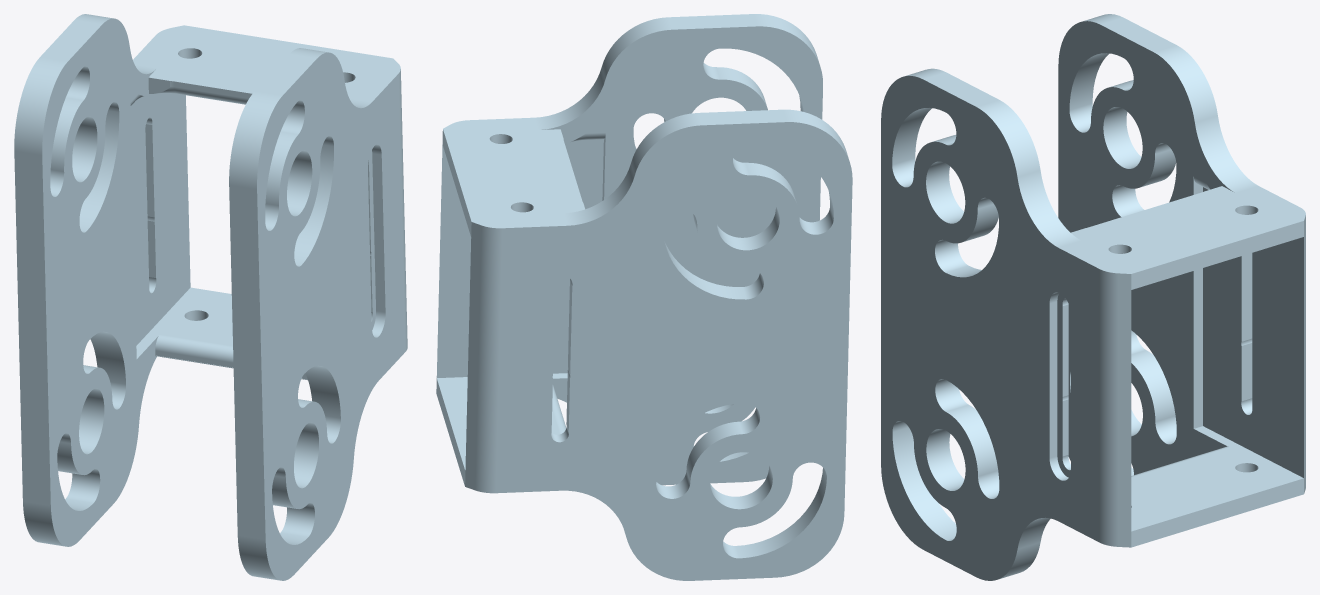
The picture shows the model from 3 angles, left to right: view 1: azimuth 30°, elevation 25°; view 2: azimuth 150°, elevation 25°; view 3: azimuth 270°, elevation 25°; orthographic projection. The views are drawn at different scales.
Visible parts, largest first — view 1: mesh5071, mesh5162, mesh5152, mesh5115, mesh5073, mesh5138, mesh5124, mesh5116, mesh5079, mesh5172, mesh5091, mesh5101 (+21 smaller); view 2: mesh5161, mesh5129, mesh5138, mesh5142, mesh5107, mesh5106, mesh5124, mesh5164, mesh5117, mesh5072, mesh5119, mesh5118 (+10 smaller); view 3: mesh5071, mesh5162, mesh5152, mesh5138, mesh5124, mesh5102, mesh5103, mesh5104, mesh5105, mesh5083, mesh5075, mesh5118 (+25 smaller).
Part boxes in pixels (x1=…): mesh5071: x1=257, y1=52, x2=405, y2=580; mesh5162: x1=42, y1=18, x2=158, y2=546; mesh5152: x1=130, y1=93, x2=190, y2=345; mesh5115: x1=14, y1=151, x2=50, y2=505; mesh5073: x1=229, y1=185, x2=265, y2=539; mesh5138: x1=133, y1=25, x2=400, y2=101; mesh5124: x1=136, y1=287, x2=232, y2=358; mesh5116: x1=14, y1=57, x2=67, y2=155; mesh5079: x1=229, y1=91, x2=282, y2=189; mesh5172: x1=79, y1=110, x2=119, y2=230; mesh5091: x1=294, y1=144, x2=333, y2=264; mesh5101: x1=372, y1=153, x2=385, y2=312; mesh5161: x1=496, y1=122, x2=852, y2=580; mesh5129: x1=542, y1=26, x2=822, y2=485; mesh5138: x1=443, y1=117, x2=584, y2=228; mesh5142: x1=436, y1=139, x2=603, y2=377; mesh5107: x1=475, y1=225, x2=502, y2=493; mesh5106: x1=465, y1=222, x2=481, y2=490; mesh5124: x1=437, y1=373, x2=567, y2=469; mesh5164: x1=736, y1=468, x2=826, y2=558; mesh5117: x1=698, y1=109, x2=786, y2=125; mesh5072: x1=668, y1=14, x2=756, y2=29; mesh5119: x1=564, y1=164, x2=634, y2=225; mesh5118: x1=631, y1=113, x2=701, y2=175; mesh5071: x1=881, y1=76, x2=1099, y2=580; mesh5162: x1=1058, y1=21, x2=1232, y2=474; mesh5152: x1=1203, y1=187, x2=1303, y2=477; mesh5138: x1=1059, y1=186, x2=1305, y2=273; mesh5124: x1=1131, y1=426, x2=1303, y2=531; mesh5102: x1=1099, y1=269, x2=1118, y2=546; mesh5103: x1=1118, y1=273, x2=1131, y2=547; mesh5104: x1=1131, y1=478, x2=1303, y2=547; mesh5105: x1=1131, y1=221, x2=1303, y2=289; mesh5083: x1=892, y1=427, x2=956, y2=539; mesh5075: x1=1017, y1=170, x2=1081, y2=247; mesh5118: x1=1154, y1=45, x2=1217, y2=122.
Bounding box in the file's own units: 0.0787 × 0.089 × 0.0729.
